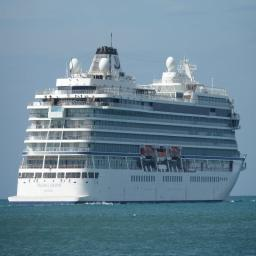cruises: (7, 30, 253, 211)
